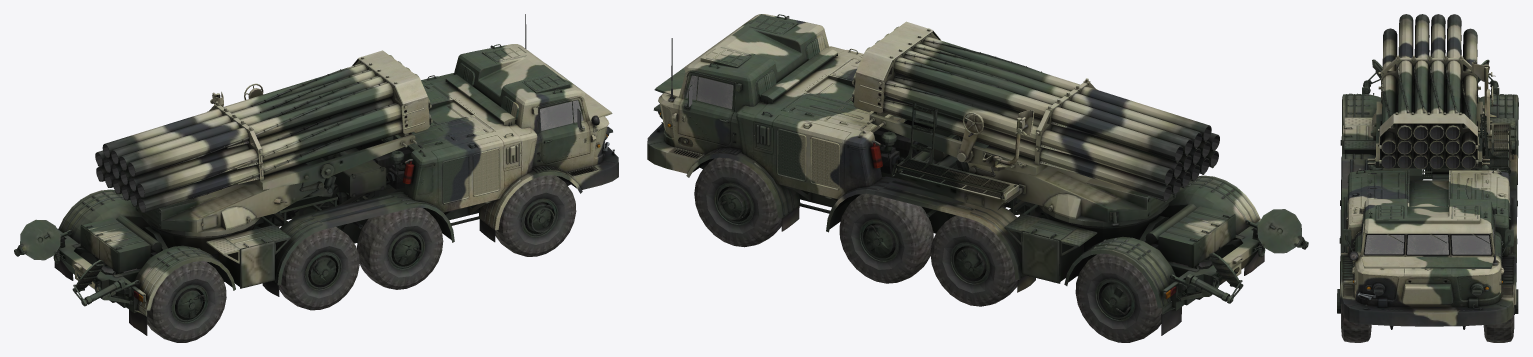
File: uragan.glb
3 views of the same model, side by side, from view 1: azimuth 30°, elevation 25°; view 2: azimuth 150°, elevation 25°; view 3: azimuth 270°, elevation 25° (orthographic). The views are drawn at different scales.
Parts seen in each view (by area): view 1: body__1, pack, w2R, w1R, w3R, w0R, body__2, body; view 2: body__1, pack, w2L, w1L, w3L, w0L, body__2, body; view 3: body__1, pack, body, w3R, w3L.
Part boxes in pixels (<box>): body__1: <box>14,14,618,335</box>; pack: <box>95,50,442,212</box>; w2R: <box>357,207,443,289</box>; w1R: <box>279,226,359,310</box>; w3R: <box>495,171,577,256</box>; w0R: <box>146,248,226,342</box>; body__2: <box>443,63,518,202</box>; body: <box>490,46,583,130</box>; body__1: <box>647,14,1308,335</box>; pack: <box>839,21,1219,202</box>; w2L: <box>839,193,933,283</box>; w1L: <box>930,215,1017,306</box>; w3L: <box>691,153,781,247</box>; w0L: <box>1075,239,1161,342</box>; body__2: <box>756,35,838,188</box>; body: <box>686,16,789,108</box>; body__1: <box>1340,59,1518,329</box>; pack: <box>1347,14,1510,189</box>; body: <box>1362,227,1494,254</box>; w3R: <box>1337,285,1371,342</box>; w3L: <box>1483,285,1518,342</box>.
Size of the model in its own units: 9.95 by 3.26 by 3.08.
Materials: 3 (3 with a texture image).
